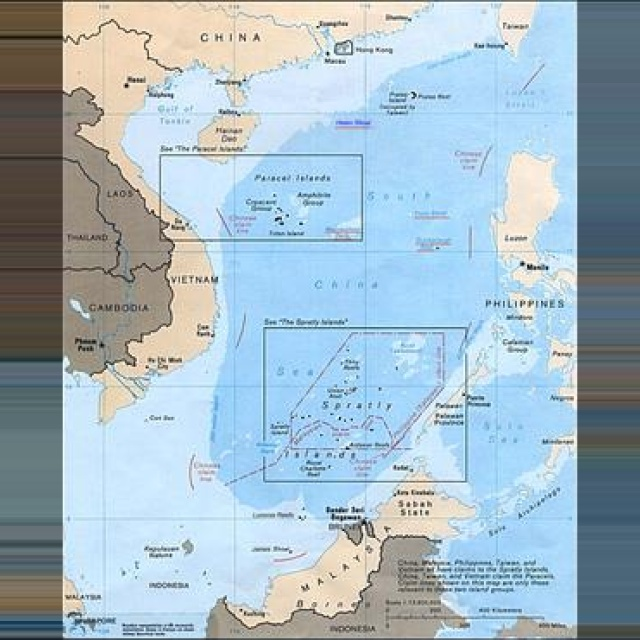Nine Dash Line: (175, 32, 609, 557)
